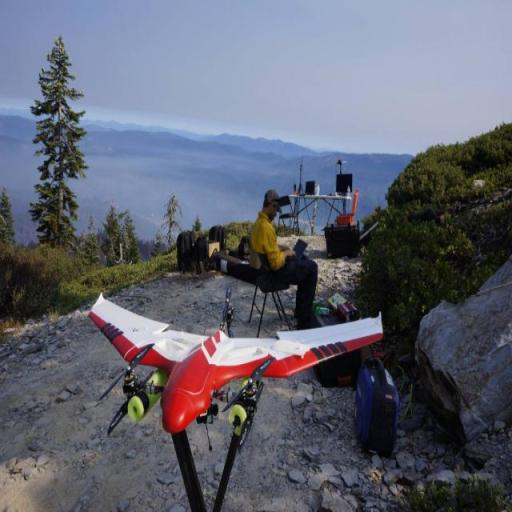uav: (74, 285, 392, 440)
